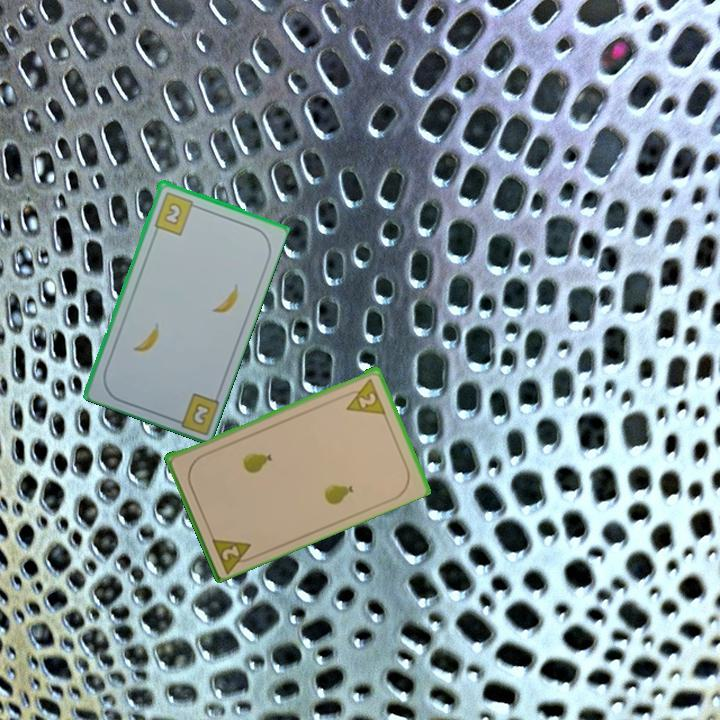2b: (150, 188, 201, 238), (188, 399, 213, 428)
2p: (208, 532, 259, 575), (339, 374, 388, 417)
